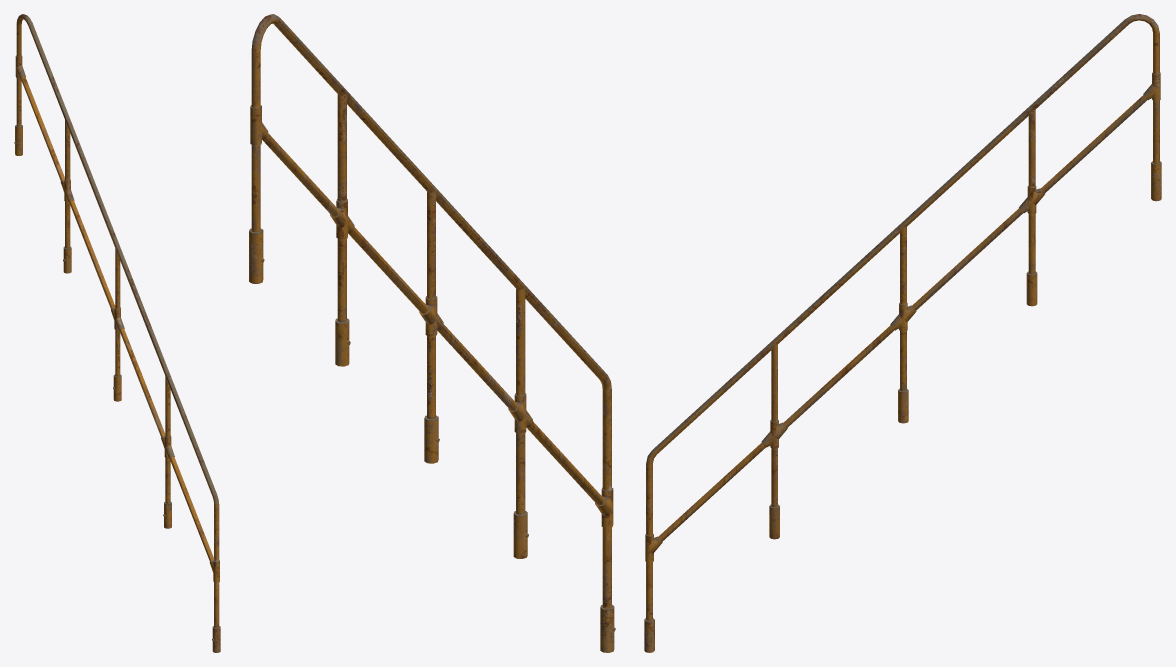
File: Railing01_Stairs01b.fbx
The picture shows the model from 3 angles, left to right: view 1: azimuth 30°, elevation 25°; view 2: azimuth 150°, elevation 25°; view 3: azimuth 270°, elevation 25°; orthographic projection. The views are drawn at different scales.
Visible parts, largest first — view 1: Railing01_Stairs01b_LOD0; view 2: Railing01_Stairs01b_LOD0; view 3: Railing01_Stairs01b_LOD0.
Boxes of the visible parts, x1=… form: Railing01_Stairs01b_LOD0: x1=14, y1=14, x2=220, y2=652; Railing01_Stairs01b_LOD0: x1=249, y1=14, x2=615, y2=652; Railing01_Stairs01b_LOD0: x1=644, y1=14, x2=1161, y2=652.
Size of what is drawn, in the model's own units: 6.66 by 409 by 302.
